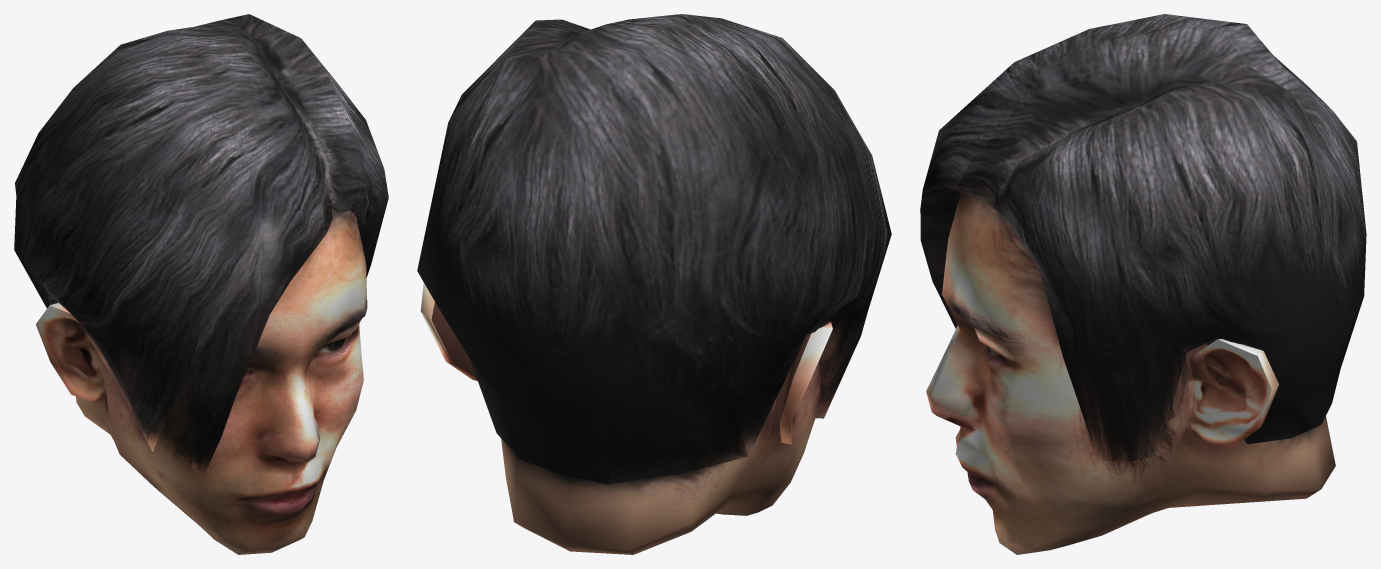
Rendered from dede_160805_7.dae.
3 renders of one model, left to right at view 1: azimuth 30°, elevation 25°; view 2: azimuth 150°, elevation 25°; view 3: azimuth 270°, elevation 25°, orthographic. The views are drawn at different scales.
Parts seen in each view (by area): view 1: Mesh; view 2: Mesh; view 3: Mesh.
Part boxes in pixels (x1,y1,x2,y2): Mesh: [14, 14, 388, 554]; Mesh: [417, 14, 891, 554]; Mesh: [920, 14, 1366, 554].
Bounding box in the file's own units: 2.03 × 2.72 × 2.16.
Materials: 1 (1 with a texture image).
